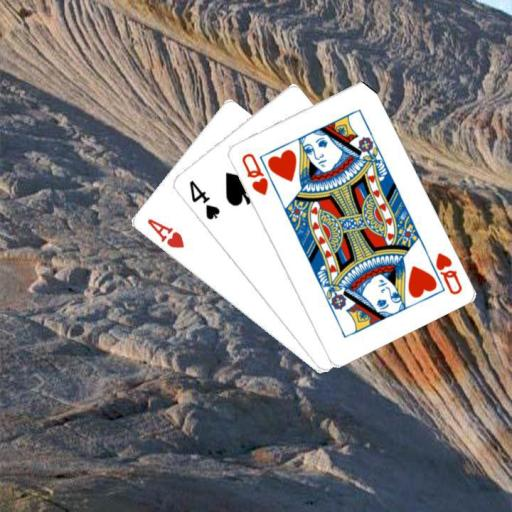4S: (186, 177, 221, 221)
AH: (143, 216, 186, 251)
QH: (422, 248, 464, 297), (238, 149, 270, 197)
